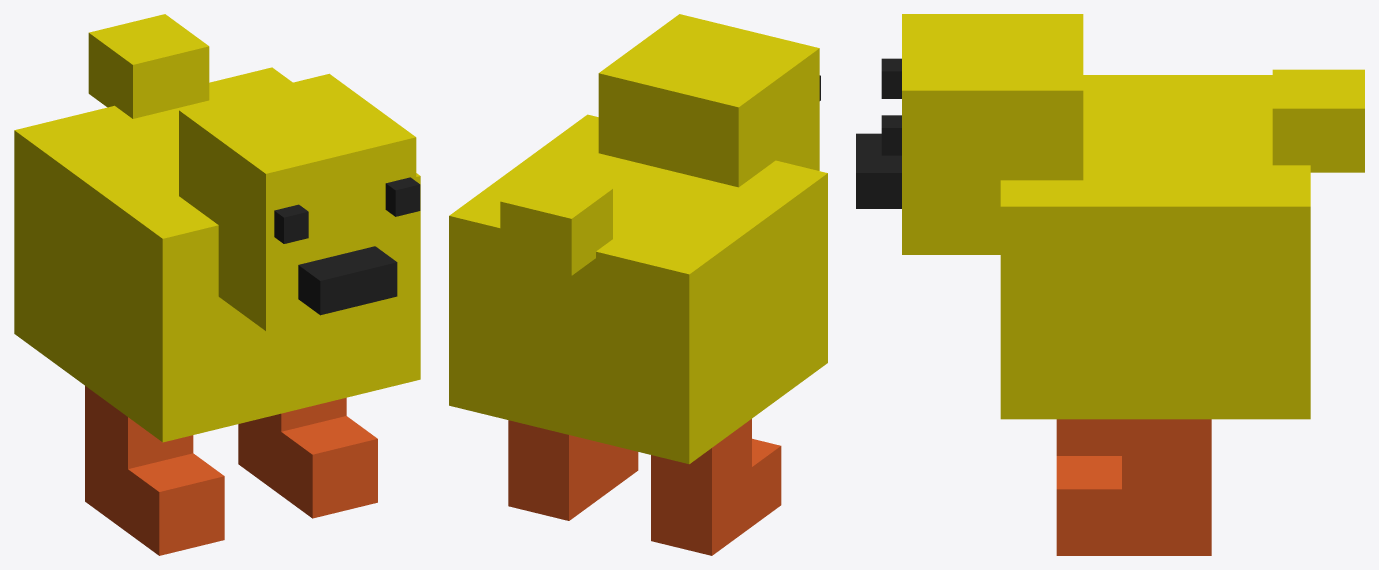
Rendered from Chicken.fbx.
The picture shows the model from 3 angles, left to right: view 1: azimuth 30°, elevation 25°; view 2: azimuth 150°, elevation 25°; view 3: azimuth 270°, elevation 25°; orthographic projection. The views are drawn at different scales.
Parts seen in each view (by area): view 1: chicken; view 2: chicken; view 3: chicken.
Boxes of the visible parts, box(x1,y1,x2,y2) form: chicken: box(14, 14, 420, 555); chicken: box(449, 14, 827, 555); chicken: box(856, 14, 1364, 555).
Size of the model in its own units: 26.72 by 42.42 by 43.73.
